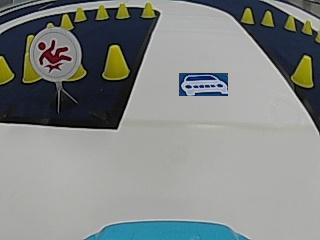cone: (102, 44, 130, 80), (291, 53, 313, 88), (22, 59, 39, 83), (0, 55, 13, 85), (240, 7, 254, 24), (141, 1, 155, 18), (95, 3, 109, 20), (60, 13, 74, 30), (116, 2, 129, 19), (73, 6, 86, 22), (261, 10, 273, 27), (284, 15, 296, 31), (302, 19, 311, 34)
tumble: (37, 32, 76, 74)
